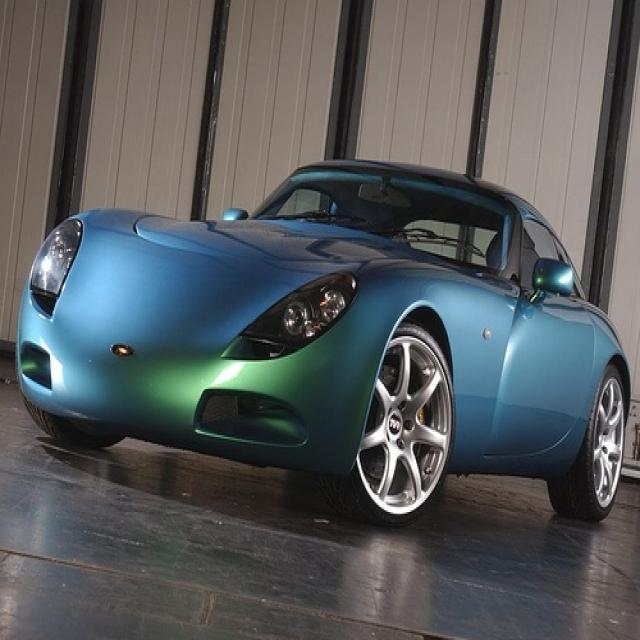car: (14, 154, 632, 522)
